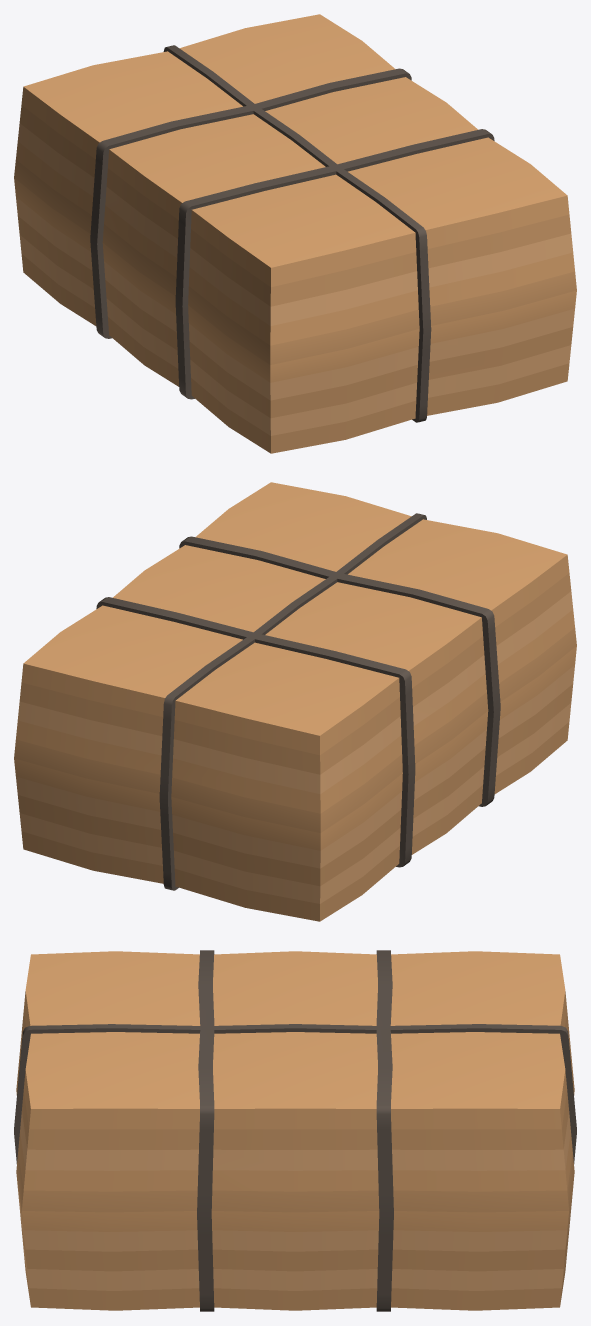
File: SM_Prop_Hay_02.obj
3 views of the same model, one above another, from view 1: azimuth 30°, elevation 25°; view 2: azimuth 150°, elevation 25°; view 3: azimuth 270°, elevation 25° (orthographic). The views are drawn at different scales.
Visible parts, largest first — view 1: SM_Prop_Hay_02_Mat_SwatchOverlay_Farm_01_Inst; view 2: SM_Prop_Hay_02_Mat_SwatchOverlay_Farm_01_Inst; view 3: SM_Prop_Hay_02_Mat_SwatchOverlay_Farm_01_Inst.
Boxes of the visible parts, bbox=[...] form: SM_Prop_Hay_02_Mat_SwatchOverlay_Farm_01_Inst: bbox=[14, 14, 576, 453]; SM_Prop_Hay_02_Mat_SwatchOverlay_Farm_01_Inst: bbox=[14, 482, 576, 921]; SM_Prop_Hay_02_Mat_SwatchOverlay_Farm_01_Inst: bbox=[14, 950, 576, 1311].
Size of the model in its own units: 1.38 by 0.8129 by 1.97.
Materials: 1 (1 with a texture image).
